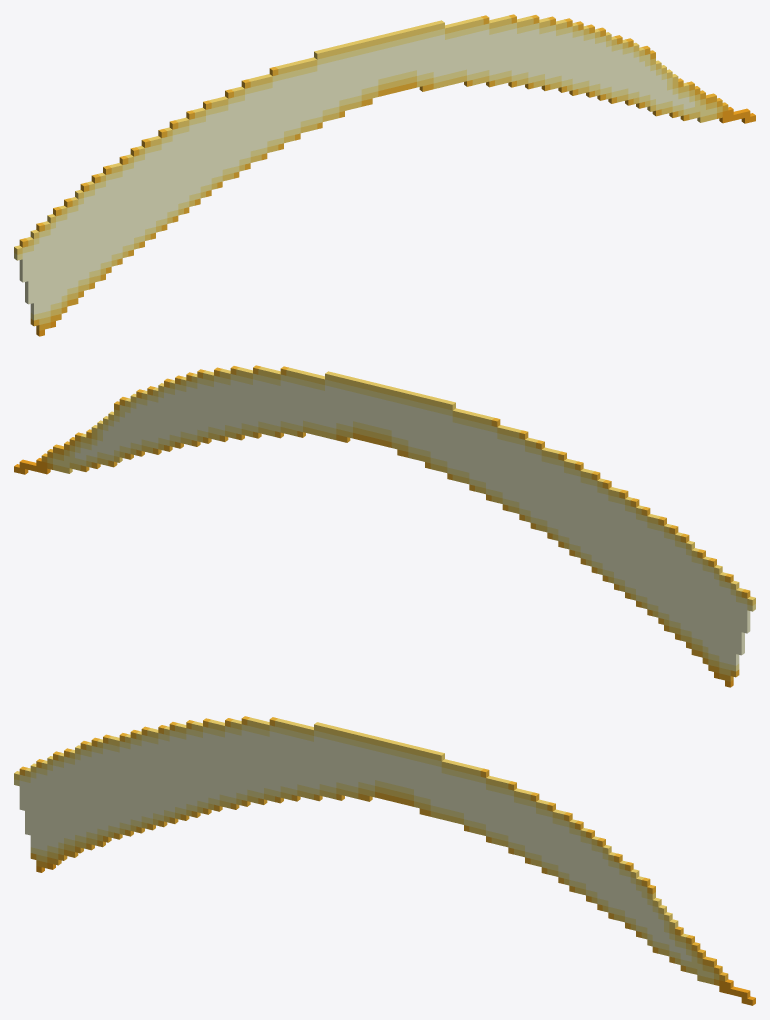
Rendered from Fight_740_2_05_fx.obj.
3 renders of one model, top to bottom at view 1: azimuth 30°, elevation 25°; view 2: azimuth 150°, elevation 25°; view 3: azimuth 330°, elevation 25°, orthographic.
Size of the model in its own units: 13.3 by 3.7 by 0.1.
1 material, 1 textured.
